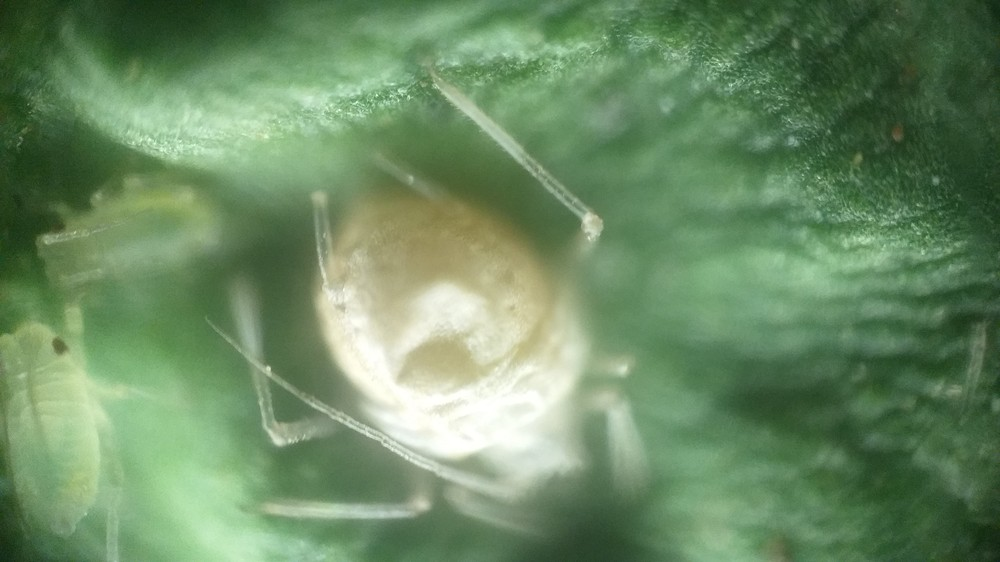Pulgon: (243, 80, 677, 542), (1, 311, 184, 558), (38, 169, 245, 301)
